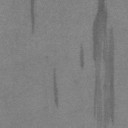red iron: (93, 0, 114, 128), (53, 68, 58, 107), (31, 0, 34, 34), (80, 45, 84, 68)
